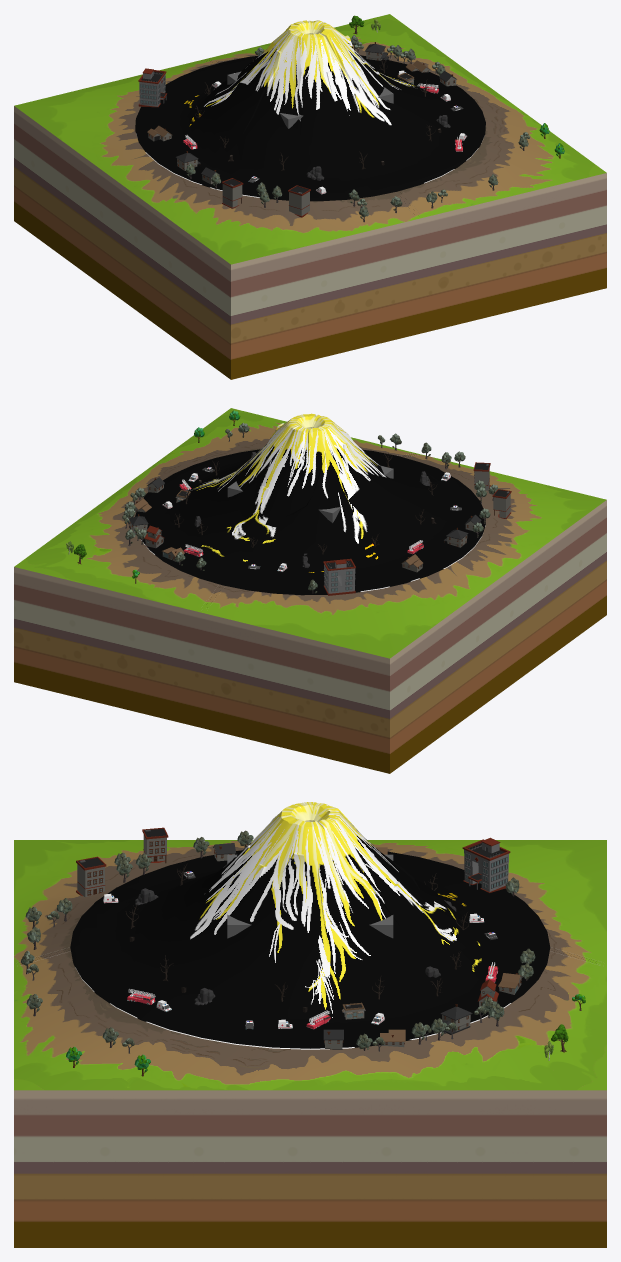
The model's file is vol4.fbx.
The picture shows the model from 3 angles, top to bottom: view 1: azimuth 30°, elevation 25°; view 2: azimuth 150°, elevation 25°; view 3: azimuth 270°, elevation 25°; orthographic projection. The views are drawn at different scales.
Visible parts, largest first — view 1: vol4_00, vol4_02; view 2: vol4_00, vol4_02; view 3: vol4_02, vol4_00, vol4_pivot.
Part boxes in pixels (x1,y1,x2,y2): vol4_00: (14, 21, 418, 379); vol4_02: (202, 14, 606, 333); vol4_00: (202, 416, 606, 773); vol4_02: (14, 408, 418, 727); vol4_02: (14, 813, 606, 1247); vol4_00: (14, 802, 606, 964); vol4_pivot: (227, 854, 393, 938).
Bounding box in the file's own units: 35.7 × 20.6 × 35.7.
9 materials, 8 textured.
